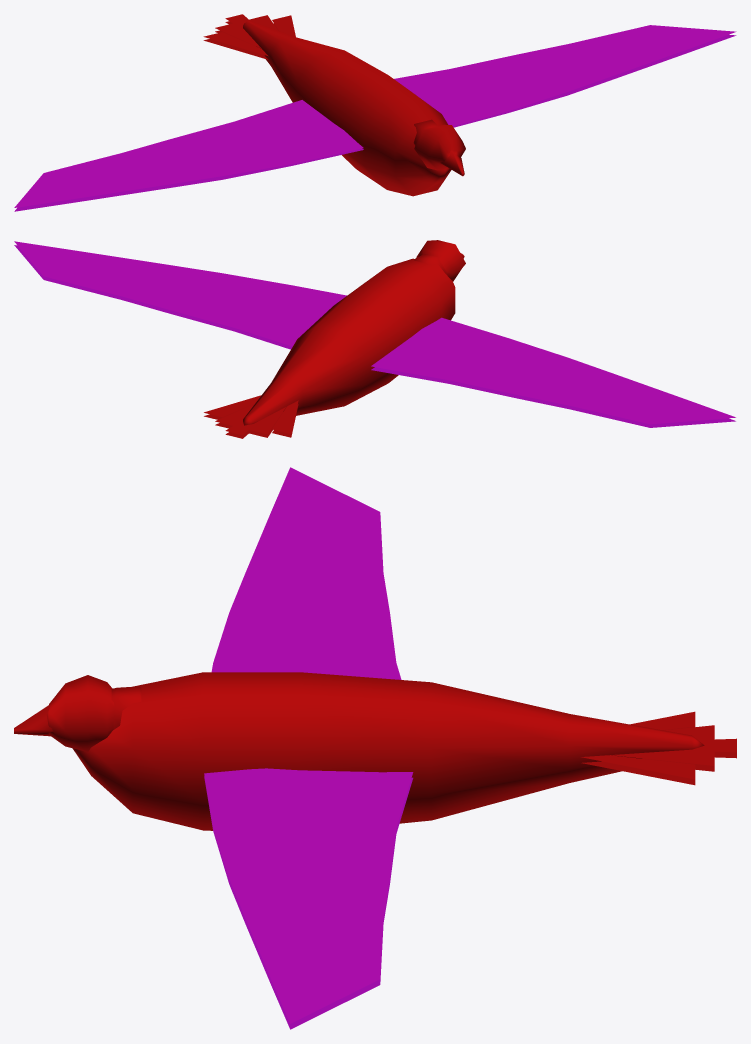
Rendered from goose.glb.
3 views of the same model, one above another, from view 1: azimuth 30°, elevation 25°; view 2: azimuth 150°, elevation 25°; view 3: azimuth 270°, elevation 25° (orthographic). The views are drawn at different scales.
Visible parts, largest first — view 1: bird; view 2: bird; view 3: bird.
Part boxes in pixels (box(x1,y1,x2,y2)): bird: box(14, 14, 736, 211); bird: box(14, 240, 735, 438); bird: box(14, 467, 736, 1029).
Bounding box in the file's own units: 1.6 × 0.1836 × 0.8789.
